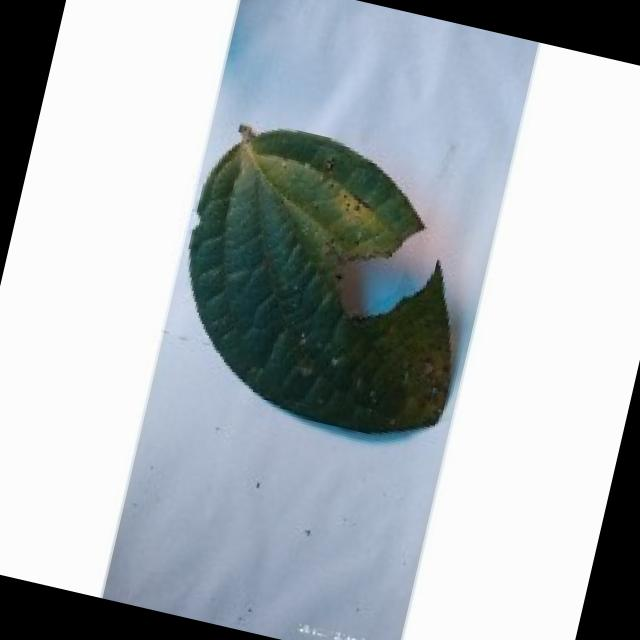slow-decline: (151, 104, 506, 453)
